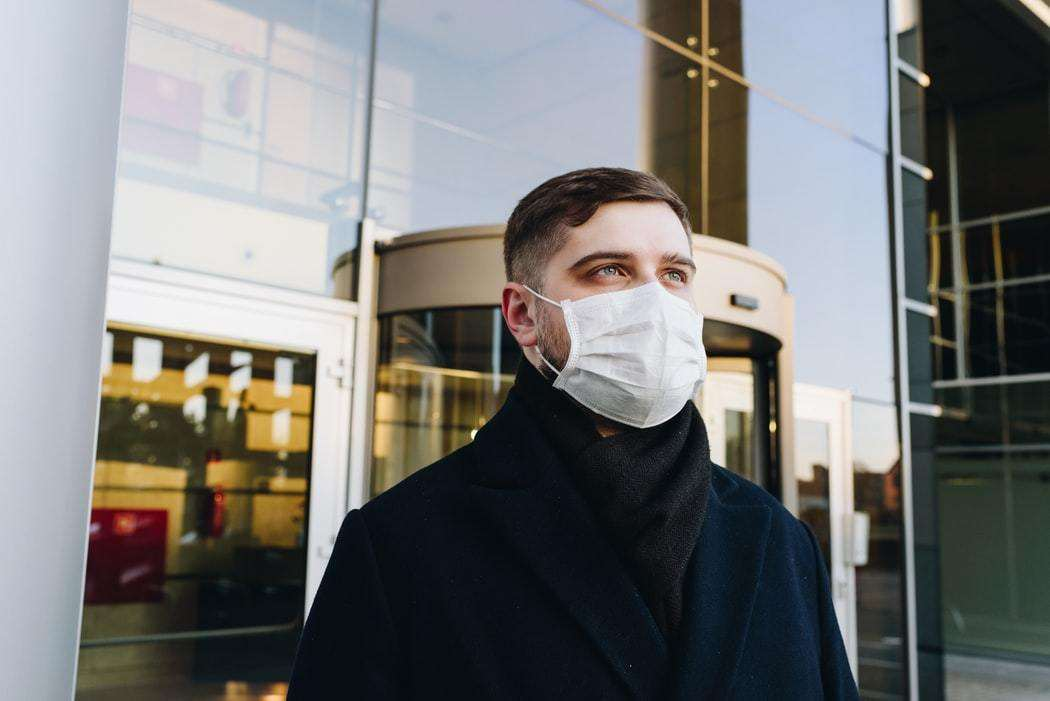mask: (545, 204, 701, 418)
